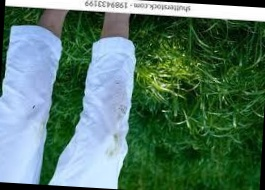earth: (111, 84, 127, 128), (109, 134, 122, 156)
